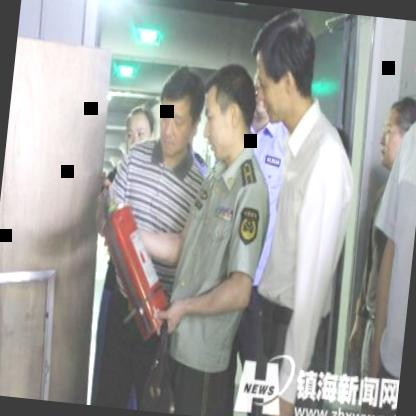head: (242, 7, 324, 130), (197, 59, 260, 170), (173, 62, 235, 163), (150, 62, 210, 162), (376, 92, 416, 171), (122, 101, 154, 154), (407, 20, 416, 113)
